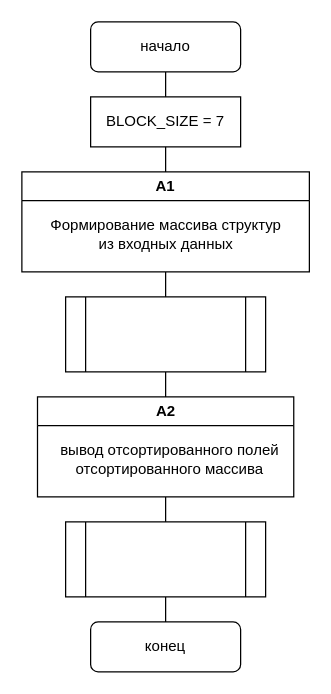
This 331x694 diagram has some shape labels left out. The shapes that lost their labels are listed below. From the top down, each one's centre as x and y in pixels, then its label:
At (x=165, y=334): "sort_note(BLOCK2)".
At (x=165, y=559): "search(BLOCK2)".
